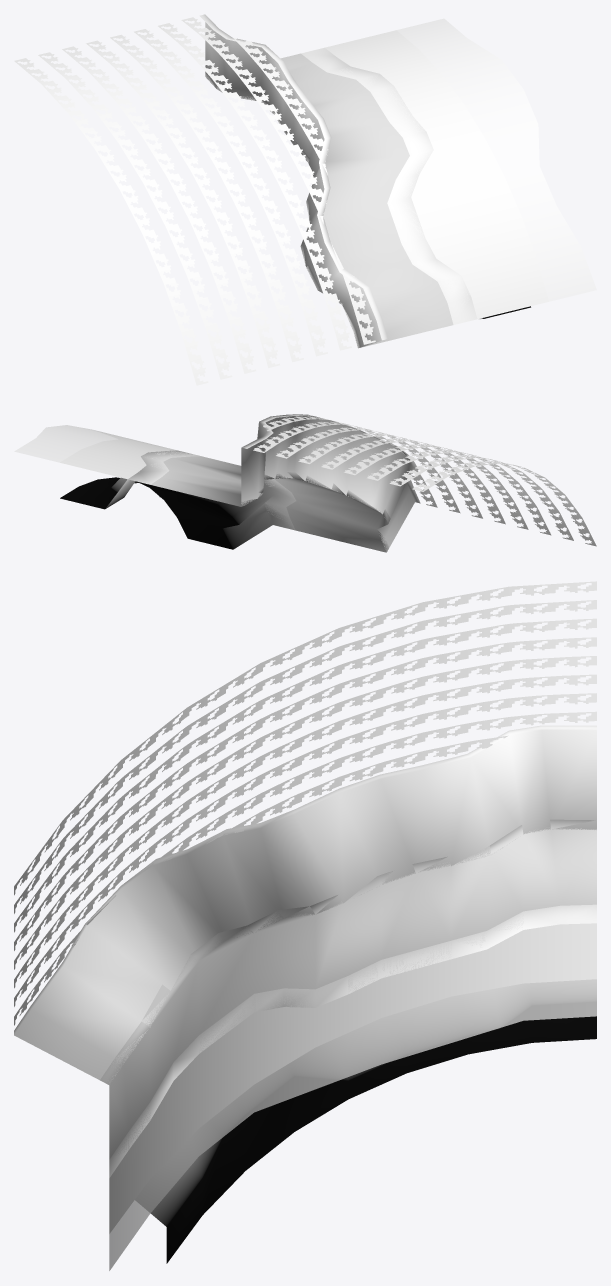
The model's file is grd_Me_1.dae.
3 renders of one model, top to bottom at view 1: azimuth 30°, elevation 25°; view 2: azimuth 150°, elevation 25°; view 3: azimuth 270°, elevation 25°, orthographic. The views are drawn at different scales.
Parts seen in each view (by area): view 1: grass_3_0, wave_5_0, ocean_4_0, beach_0_0, cliff_2_0, beach_1_0; view 2: cliff_2_0, grass_3_0, beach_0_0, beach_1_0, wave_5_0, ocean_4_0; view 3: cliff_2_0, beach_1_0, beach_0_0, grass_3_0, wave_5_0, ocean_4_0.
Boxes of the visible parts, bbox=[...] form: grass_3_0: bbox=[14, 17, 375, 385]; wave_5_0: bbox=[331, 18, 596, 323]; ocean_4_0: bbox=[325, 30, 548, 319]; beach_0_0: bbox=[205, 53, 453, 348]; cliff_2_0: bbox=[199, 14, 387, 347]; beach_1_0: bbox=[301, 47, 530, 324]; cliff_2_0: bbox=[241, 414, 420, 551]; grass_3_0: bbox=[253, 416, 596, 546]; beach_0_0: bbox=[151, 456, 390, 552]; beach_1_0: bbox=[60, 450, 296, 549]; wave_5_0: bbox=[14, 425, 293, 528]; ocean_4_0: bbox=[60, 439, 177, 479]; cliff_2_0: bbox=[14, 725, 596, 1084]; beach_1_0: bbox=[109, 904, 596, 1263]; beach_0_0: bbox=[100, 819, 596, 1159]; grass_3_0: bbox=[14, 581, 596, 1025]; wave_5_0: bbox=[109, 912, 596, 1270]; ocean_4_0: bbox=[109, 923, 596, 1233].
Size of the model in its own units: 592 by 308 by 423.
6 materials, 1 textured.
